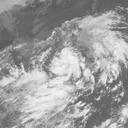cyclone: (47, 39, 97, 91)
